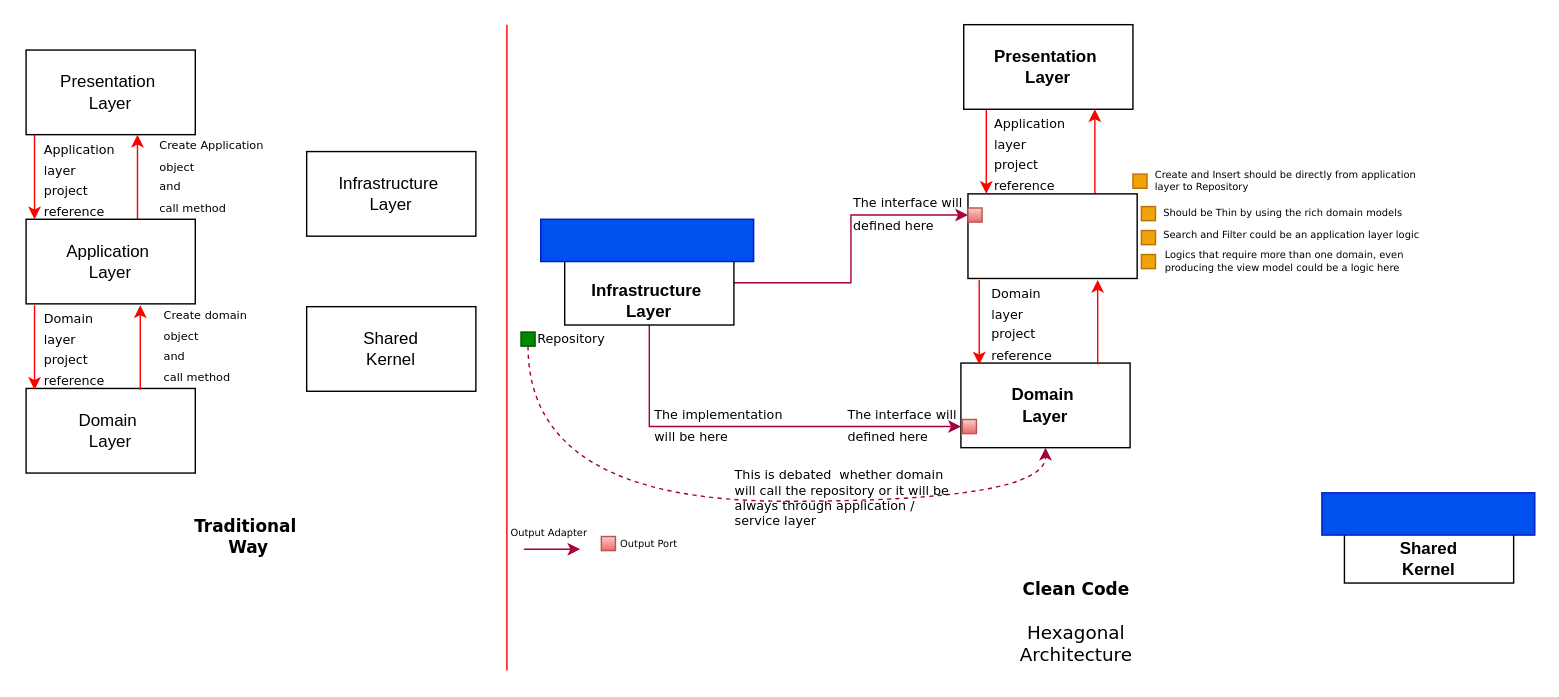
This 1559x697 diagram has some shape labels left out. The shapes that lost their labels are listed below. From the top down, each one's box as (x1, y1, x2, y2) in pixels, then its label:
(539, 218, 754, 262): All calls to external systems will be wrapped inside here
(967, 192, 1137, 278): Application Layer (Service Layer by Eric Evans)
(1320, 491, 1535, 535): All sorts of reusable helper code goes here
